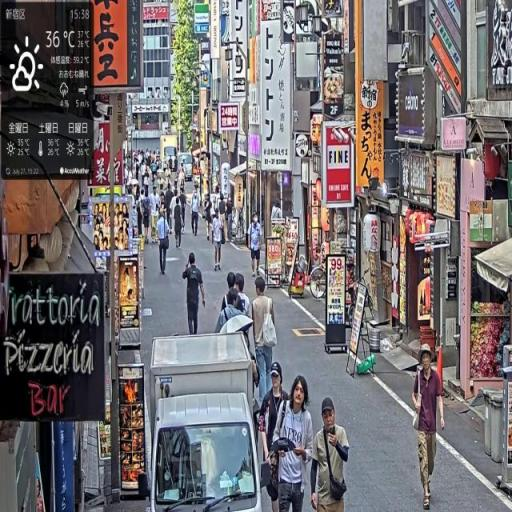person: (270, 374, 316, 512), (412, 347, 449, 512), (260, 361, 291, 512), (312, 396, 351, 511), (251, 275, 278, 410), (183, 252, 208, 339), (157, 207, 172, 280), (249, 212, 264, 281), (211, 208, 226, 271), (191, 187, 202, 238)
